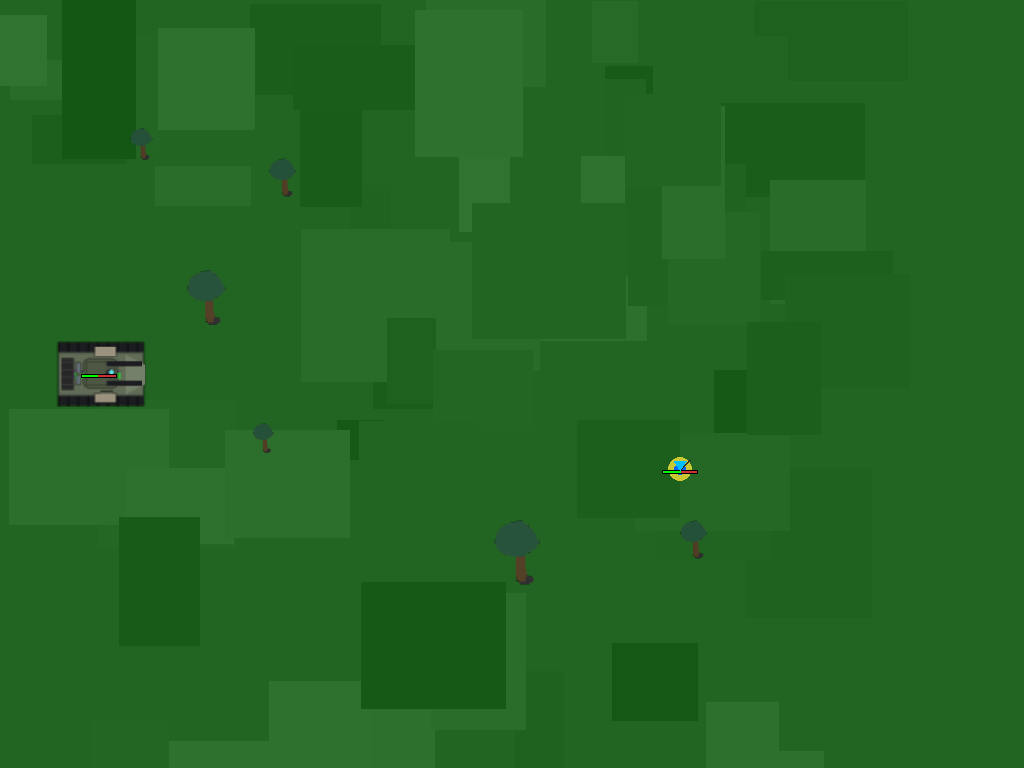APC_chn: (63, 336, 135, 408)
CombatEngineer: (660, 449, 701, 490)
